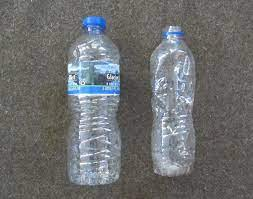plastic_bottle: (67, 16, 122, 185), (149, 25, 196, 177)
